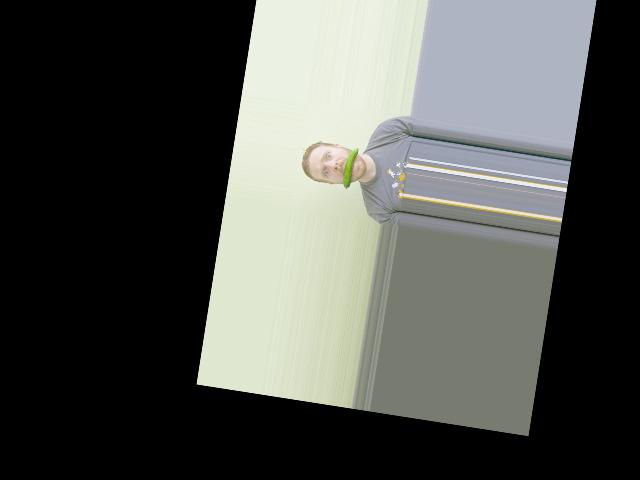cucumber: (342, 146, 359, 190)
